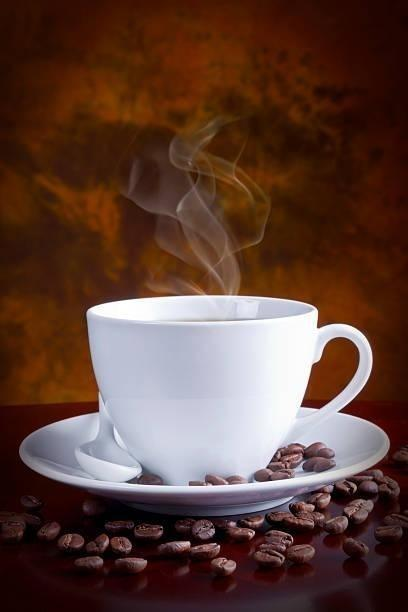cup-handle: (84, 293, 374, 487)
